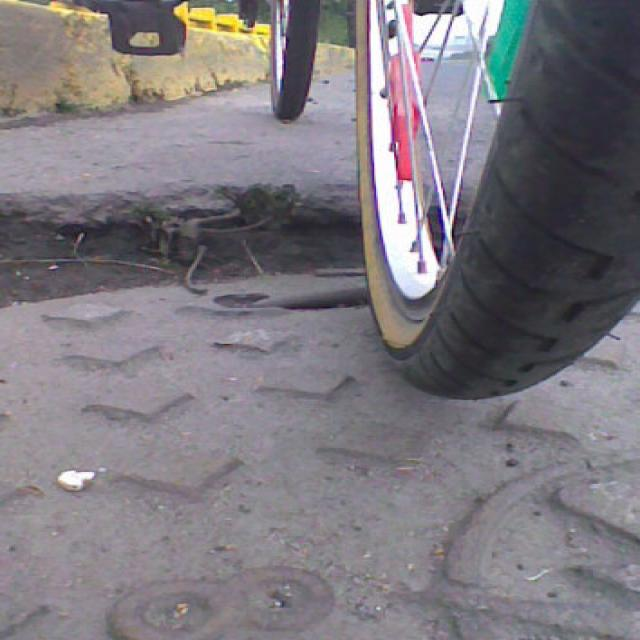Pothole: (2, 173, 421, 340)
